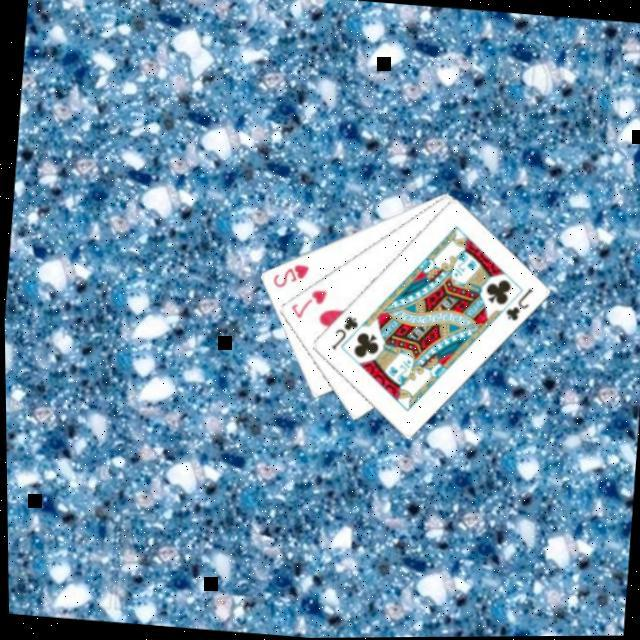2H: (269, 257, 312, 291)
7H: (286, 282, 329, 321)
JC: (326, 309, 362, 354), (500, 282, 536, 324)
